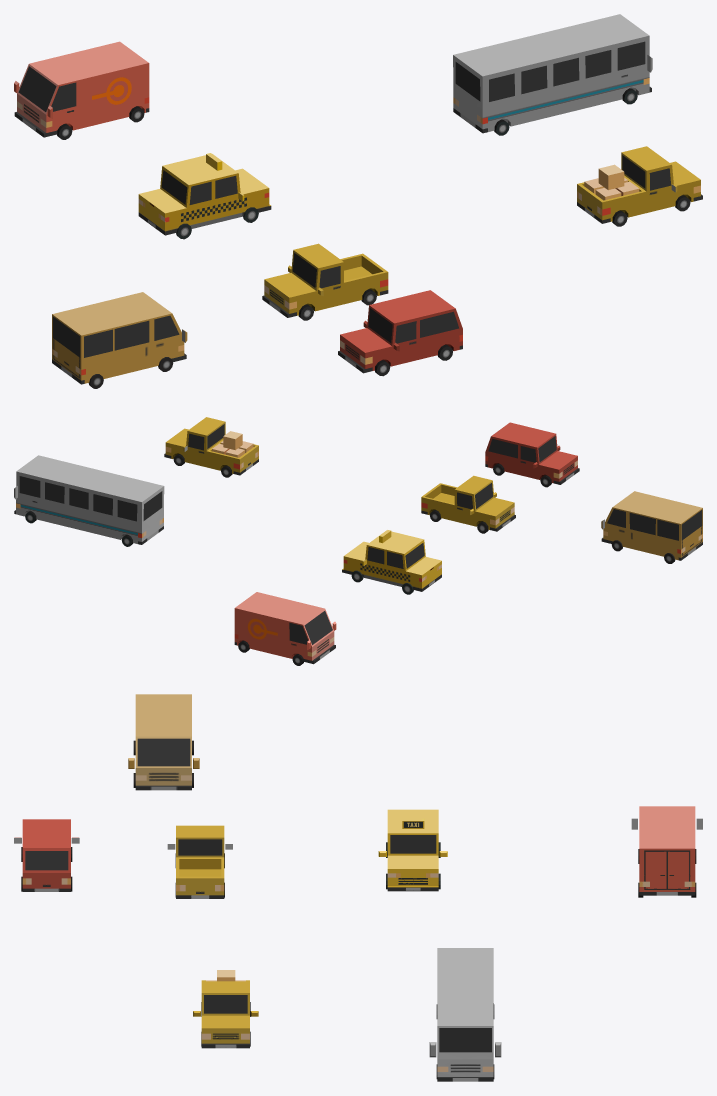
File: carpark_subset.FBX
3 renders of one model, top to bottom at view 1: azimuth 30°, elevation 25°; view 2: azimuth 150°, elevation 25°; view 3: azimuth 270°, elevation 25°, orthographic. The views are drawn at different scales.
Visible parts, largest first — view 1: bus_seperate_grey, van_seperate_red__1_, family_van_yellow_prefab__2_, taxi_mesh__2_, car_seperate_red__2_, ute_seperate_yellow__1_, ute_empty_seperate_yellow__1_; view 2: bus_seperate_grey, van_seperate_red__1_, family_van_yellow_prefab__2_, taxi_mesh__2_, car_seperate_red__2_, ute_seperate_yellow__1_, ute_empty_seperate_yellow__1_; view 3: bus_seperate_grey, family_van_yellow_prefab__2_, van_seperate_red__1_, taxi_mesh__2_, car_seperate_red__2_, ute_empty_seperate_yellow__1_, ute_seperate_yellow__1_.
Part boxes in pixels (x1,y1,x2,y2): bus_seperate_grey: (453, 14, 652, 135); van_seperate_red__1_: (14, 41, 149, 139); family_van_yellow_prefab__2_: (52, 292, 187, 388); taxi_mesh__2_: (138, 153, 271, 239); car_seperate_red__2_: (338, 290, 462, 376); ute_seperate_yellow__1_: (577, 146, 702, 226); ute_empty_seperate_yellow__1_: (262, 243, 388, 320); bus_seperate_grey: (14, 455, 164, 546); van_seperate_red__1_: (234, 592, 336, 665); family_van_yellow_prefab__2_: (601, 491, 702, 563); taxi_mesh__2_: (342, 530, 441, 594); car_seperate_red__2_: (485, 422, 579, 487); ute_seperate_yellow__1_: (164, 417, 258, 477); ute_empty_seperate_yellow__1_: (421, 475, 515, 533); bus_seperate_grey: (429, 948, 501, 1081); family_van_yellow_prefab__2_: (128, 694, 199, 790); van_seperate_red__1_: (631, 806, 702, 897); taxi_mesh__2_: (378, 809, 447, 891); car_seperate_red__2_: (14, 819, 79, 891); ute_empty_seperate_yellow__1_: (167, 825, 232, 898); ute_seperate_yellow__1_: (193, 970, 258, 1048).
Bounding box in the file's own units: 38442 × 3453 × 32859.
Materials: 6 (6 with a texture image).
